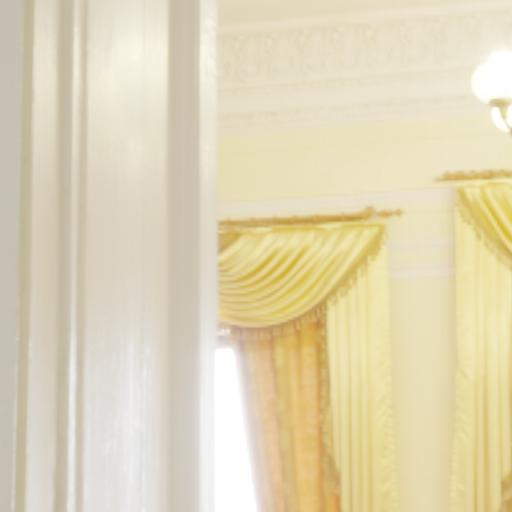nothing: (4, 6, 511, 511)
